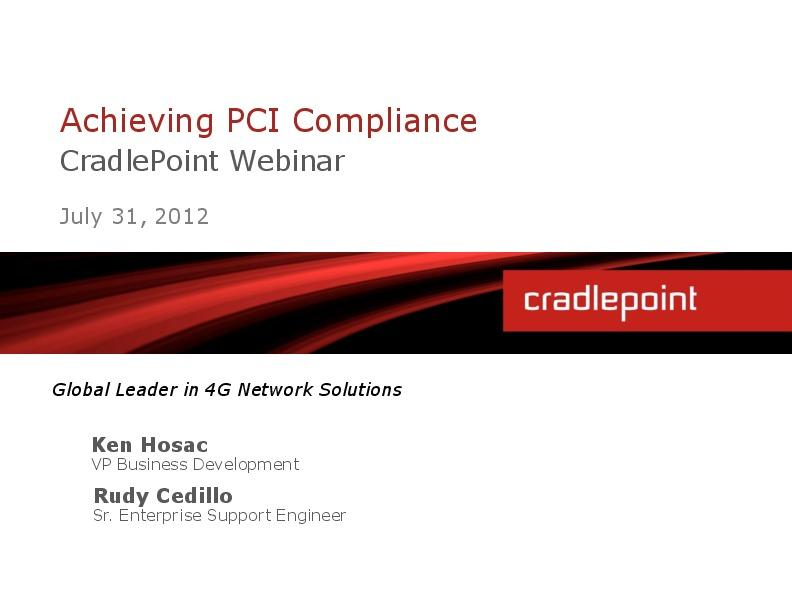paragraph: (41, 375, 495, 563)
subtitle: (513, 274, 721, 324)
title: (46, 85, 533, 191)
